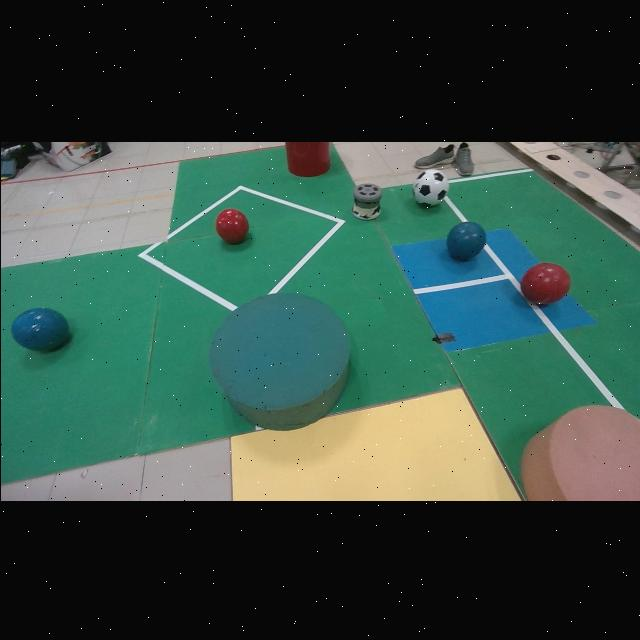B: (10, 306, 67, 349), (446, 219, 485, 259)
R: (519, 261, 570, 303), (215, 207, 248, 242)
